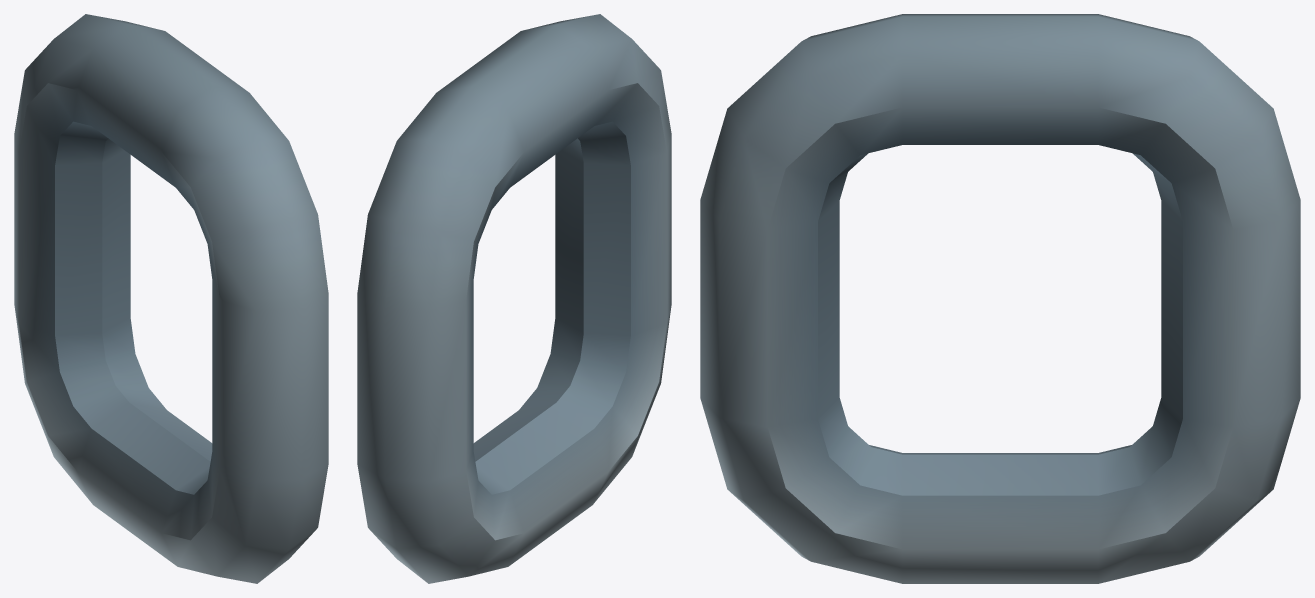
Rendered from lantern_handle.obj.
The picture shows the model from 3 angles, left to right: view 1: azimuth 30°, elevation 25°; view 2: azimuth 150°, elevation 25°; view 3: azimuth 270°, elevation 25°; orthographic projection. The views are drawn at different scales.
Visible parts, largest first — view 1: lantern_handle; view 2: lantern_handle; view 3: lantern_handle.
Part boxes in pixels (x1=…): lantern_handle: x1=14, y1=14, x2=328, y2=583; lantern_handle: x1=357, y1=14, x2=671, y2=583; lantern_handle: x1=700, y1=14, x2=1300, y2=583.
Size of the model in its own units: 0.057 by 0.2546 by 0.2456.
Materials: 1 (1 with a texture image).
